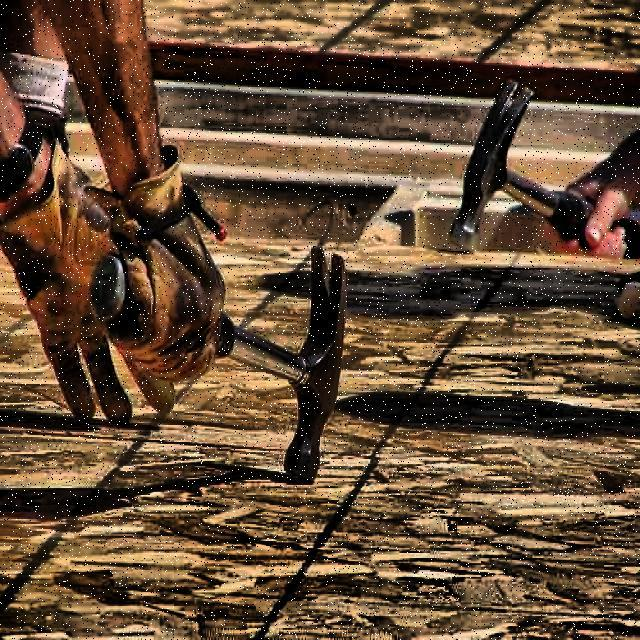hammer: (177, 240, 349, 490), (447, 79, 638, 279)
